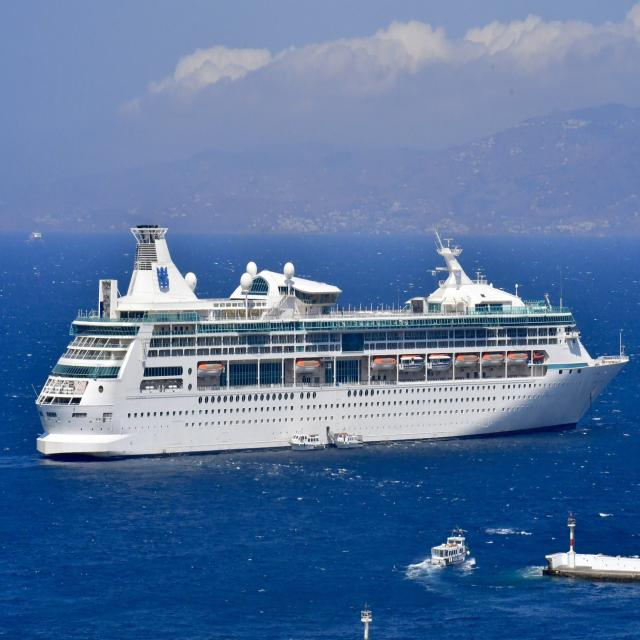houseboat: (428, 520, 468, 569), (290, 424, 322, 452), (332, 429, 365, 452)
passenger ship: (31, 209, 625, 456)
